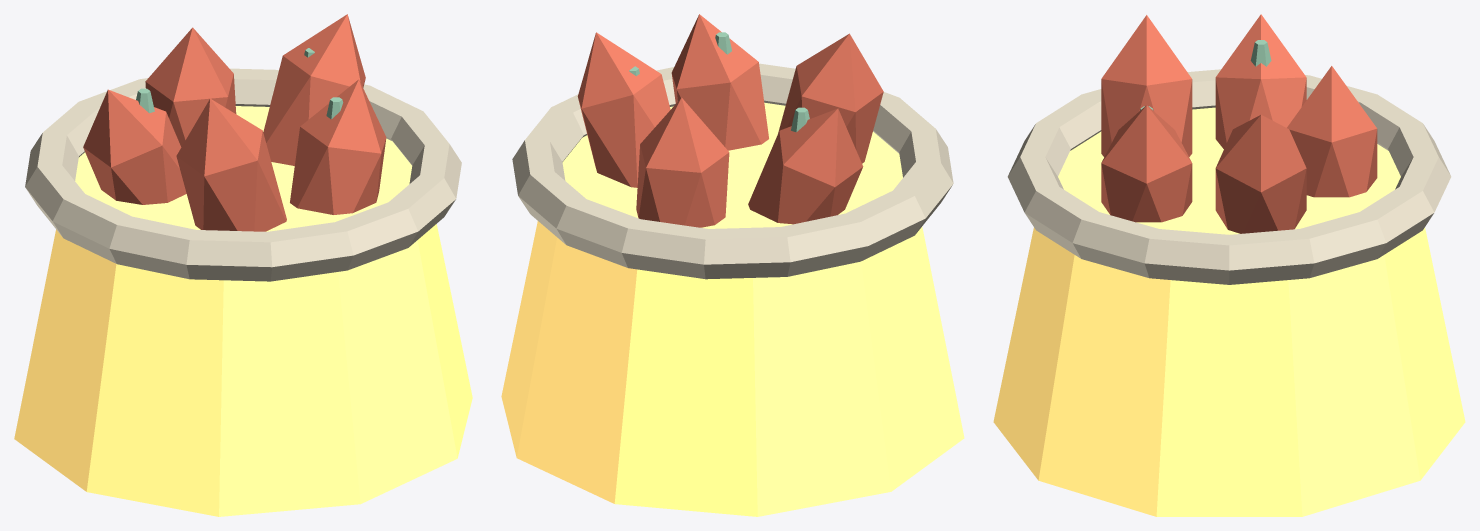
Rendered from ember_basket.glb.
3 views of the same model, side by side, from view 1: azimuth 30°, elevation 25°; view 2: azimuth 150°, elevation 25°; view 3: azimuth 270°, elevation 25° (orthographic).
Visible parts, largest first — view 1: Basket, Rim, Pepper.003, Pepper.002, Pepper.004, Pepper.001, Pepper; view 2: Basket, Rim, Pepper, Pepper.004, Pepper.001, Pepper.002, Pepper.003; view 3: Basket, Rim, Pepper.001, Pepper.002, Pepper, Pepper.003, Pepper.004.
Part boxes in pixels (x1=…): Basket: x1=14, y1=106, x2=472, y2=516; Rim: x1=25, y1=68, x2=461, y2=281; Pepper.003: x1=176, y1=98, x2=286, y2=231; Pepper.002: x1=290, y1=79, x2=386, y2=214; Pepper.004: x1=83, y1=89, x2=186, y2=204; Pepper.001: x1=263, y1=14, x2=365, y2=165; Pepper: x1=145, y1=27, x2=236, y2=146; Basket: x1=501, y1=102, x2=964, y2=516; Rim: x1=512, y1=63, x2=953, y2=279; Pepper: x1=636, y1=97, x2=729, y2=227; Pepper.004: x1=748, y1=108, x2=863, y2=224; Pepper.001: x1=577, y1=32, x2=670, y2=187; Pepper.002: x1=671, y1=14, x2=768, y2=150; Pepper.003: x1=778, y1=33, x2=883, y2=163; Basket: x1=993, y1=107, x2=1465, y2=516; Rim: x1=1007, y1=69, x2=1451, y2=284; Pepper.001: x1=1215, y1=115, x2=1306, y2=233; Pepper.002: x1=1101, y1=105, x2=1192, y2=222; Pepper: x1=1287, y1=66, x2=1377, y2=197; Pepper.003: x1=1101, y1=15, x2=1192, y2=156; Pepper.004: x1=1215, y1=14, x2=1306, y2=148.
Size of the model in its own units: 2.85 by 2.6 by 3.
